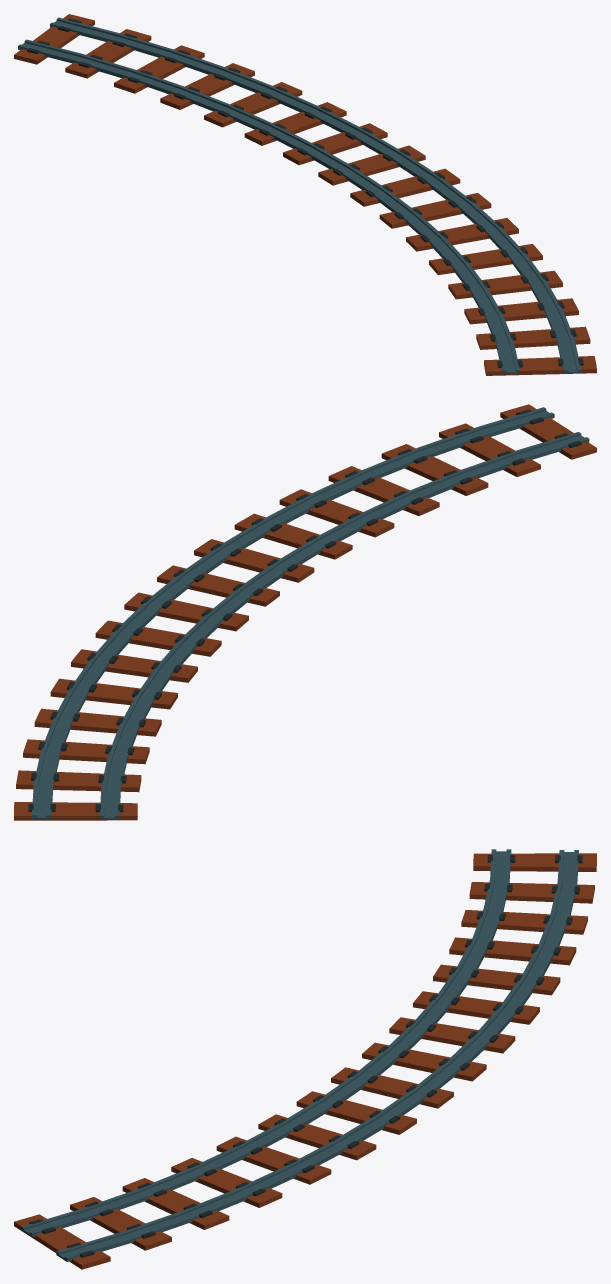
File: TrainTracks_Curve.fbx
3 views of the same model, one above another, from view 1: azimuth 30°, elevation 25°; view 2: azimuth 150°, elevation 25°; view 3: azimuth 330°, elevation 25° (orthographic). The views are drawn at different scales.
Parts seen in each view (by area): view 1: Train_Curve; view 2: Train_Curve; view 3: Train_Curve.
Part boxes in pixels (left/top/right/bottom): Train_Curve: left=14, top=14, right=596, bottom=375; Train_Curve: left=14, top=404, right=596, bottom=820; Train_Curve: left=14, top=849, right=596, bottom=1269.
Bounding box in the file's own units: 430 × 12.11 × 1784.
